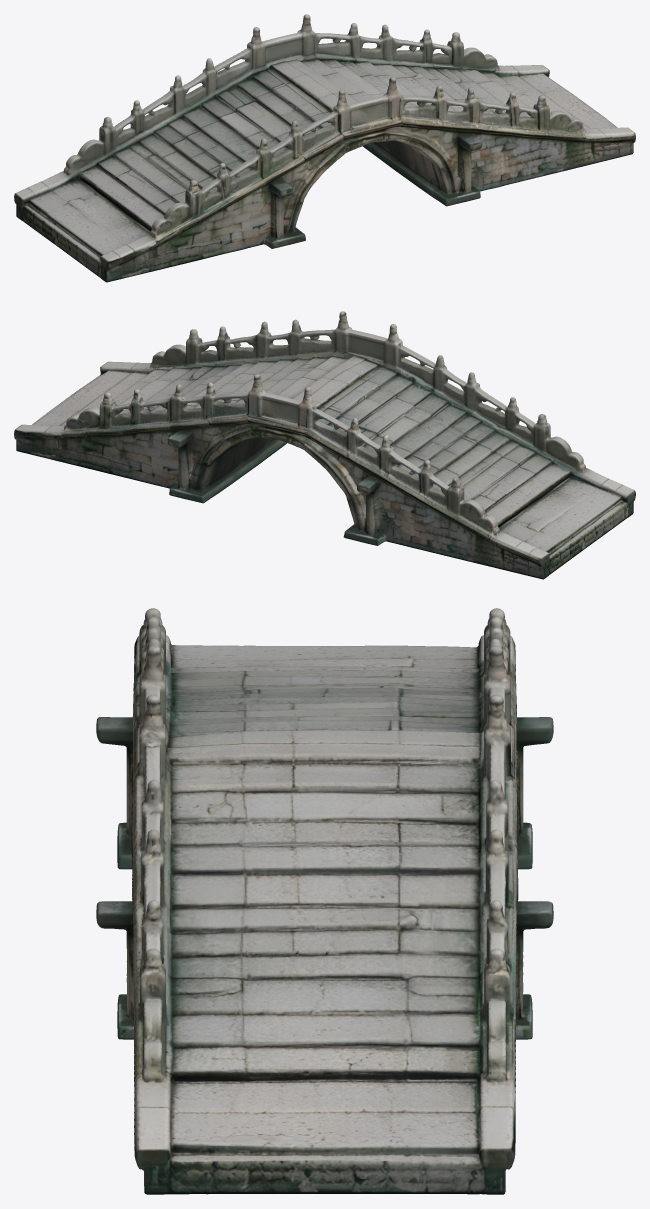
The model's file is fengqiao-bridge.glb.
The picture shows the model from 3 angles, top to bottom: view 1: azimuth 30°, elevation 25°; view 2: azimuth 150°, elevation 25°; view 3: azimuth 270°, elevation 25°; orthographic projection. The views are drawn at different scales.
Parts seen in each view (by area): view 1: tripo_node_9c7d7524-06c8-4649-8a94-a5c960396aa7; view 2: tripo_node_9c7d7524-06c8-4649-8a94-a5c960396aa7; view 3: tripo_node_9c7d7524-06c8-4649-8a94-a5c960396aa7.
Boxes of the visible parts, x1,y1,x2,y2 form: tripo_node_9c7d7524-06c8-4649-8a94-a5c960396aa7: [14, 14, 635, 282]; tripo_node_9c7d7524-06c8-4649-8a94-a5c960396aa7: [14, 311, 635, 579]; tripo_node_9c7d7524-06c8-4649-8a94-a5c960396aa7: [96, 608, 553, 1194].
Bounding box in the file's own units: 1 × 0.2418 × 0.375.
1 material, 1 textured.
